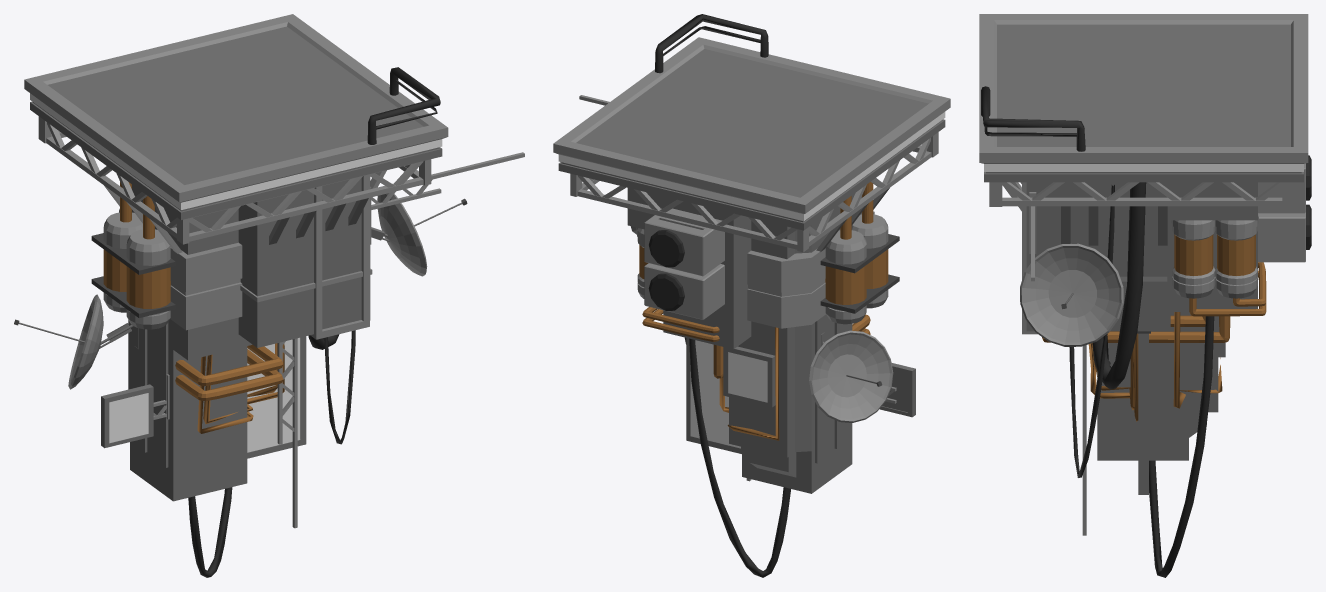
The model's file is Platform_2x2.glb.
The picture shows the model from 3 angles, left to right: view 1: azimuth 30°, elevation 25°; view 2: azimuth 150°, elevation 25°; view 3: azimuth 270°, elevation 25°; orthographic projection. The views are drawn at different scales.
Visible parts, largest first — view 1: Platform_2x2; view 2: Platform_2x2; view 3: Platform_2x2.
Part boxes in pixels (<box>): Platform_2x2: <box>14,14,524,577</box>; Platform_2x2: <box>553,14,950,577</box>; Platform_2x2: <box>979,14,1311,577</box>.
Size of the model in its own units: 3.31 by 3.83 by 2.16.
